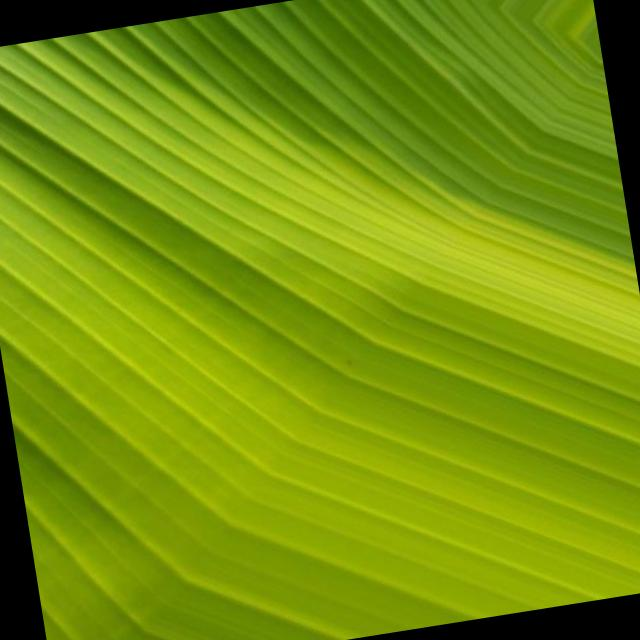Banana_Healthy: (128, 117, 616, 578)
